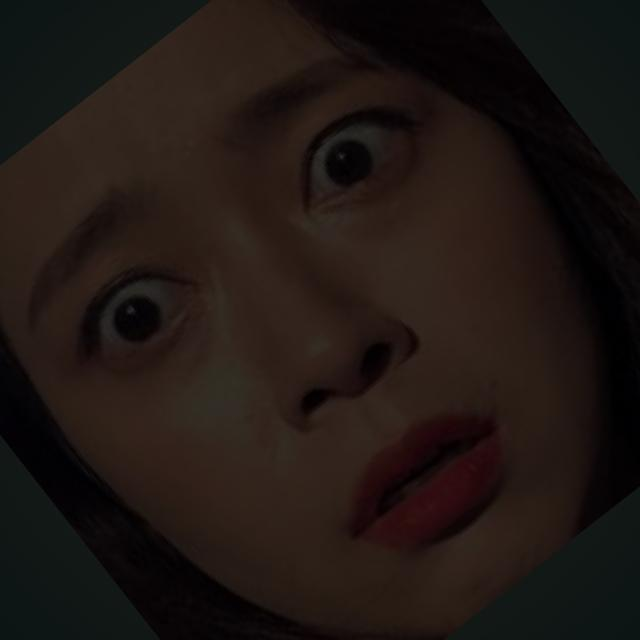Surprised: (0, 56, 592, 601)
